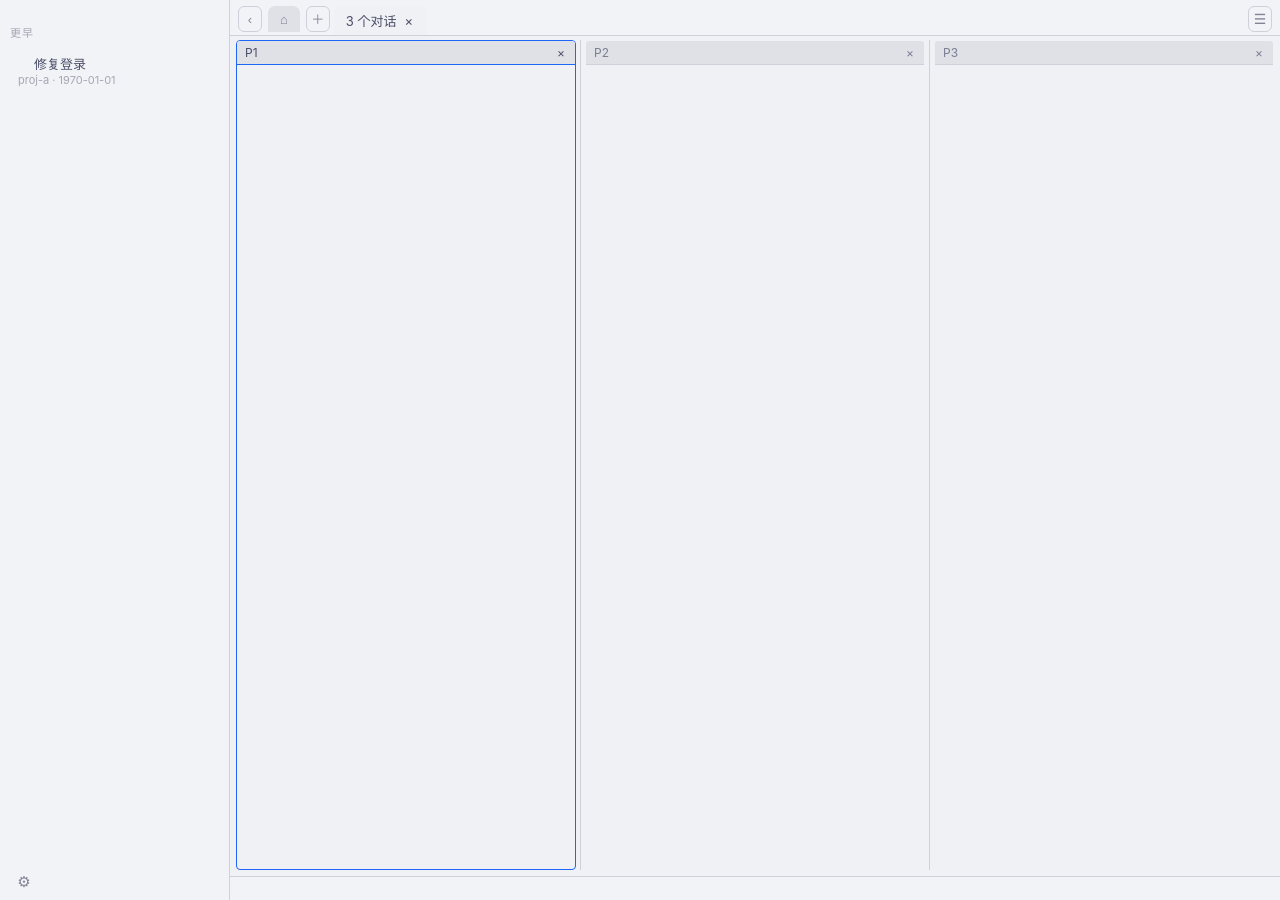
Test case: Sidebar — 从「最近会话」拖入窗格区（设计文档 §5-B 场景 B） › 已达 3 个窗格时拒绝：显示轻提示，不新建窗格
Press the mouse on the text "修复登录" at [67, 72], box x1=18 y1=56 x2=116 y2=87
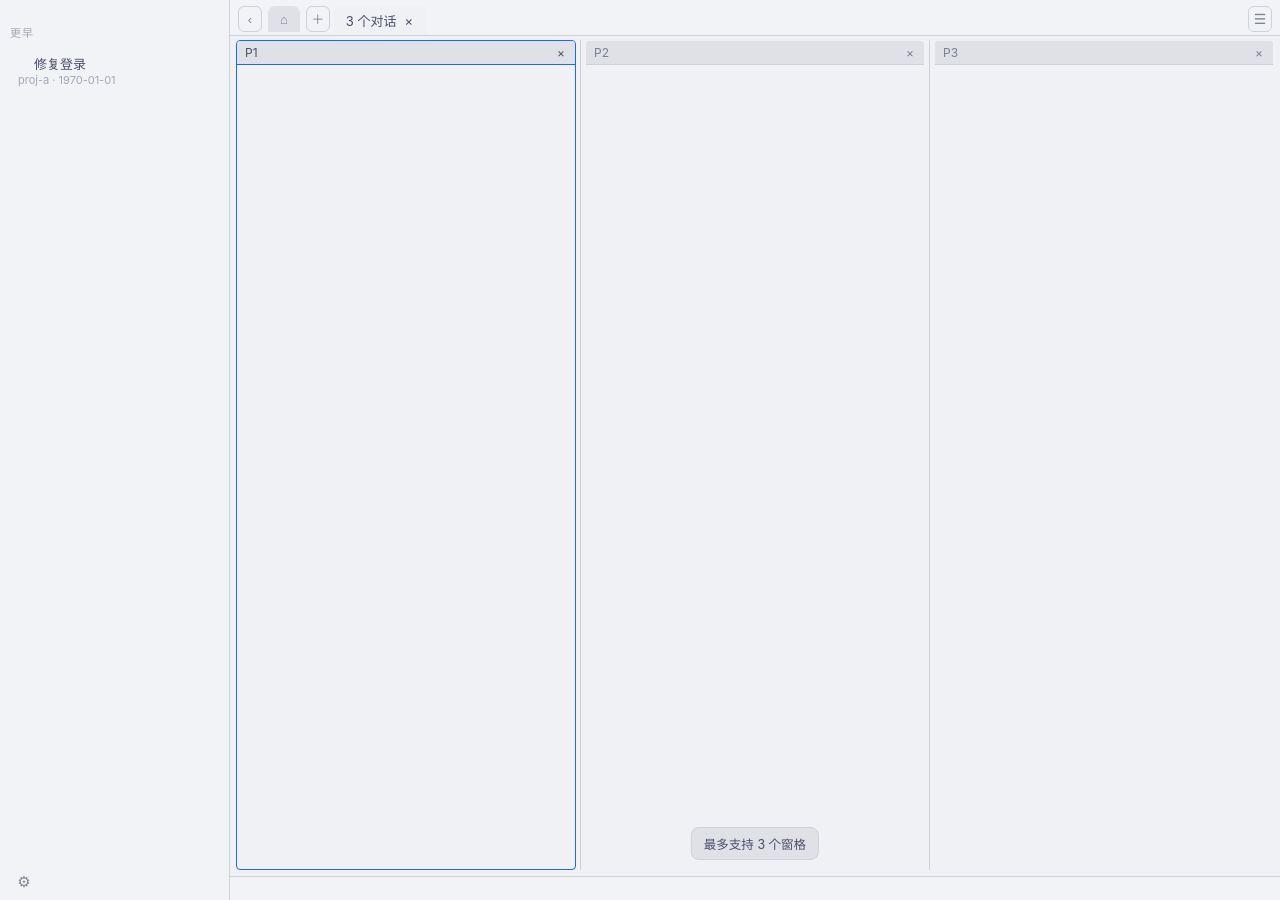
Check: the text "最多支持 3 个窗格" is shown, box x1=691 y1=827 x2=819 y2=860
